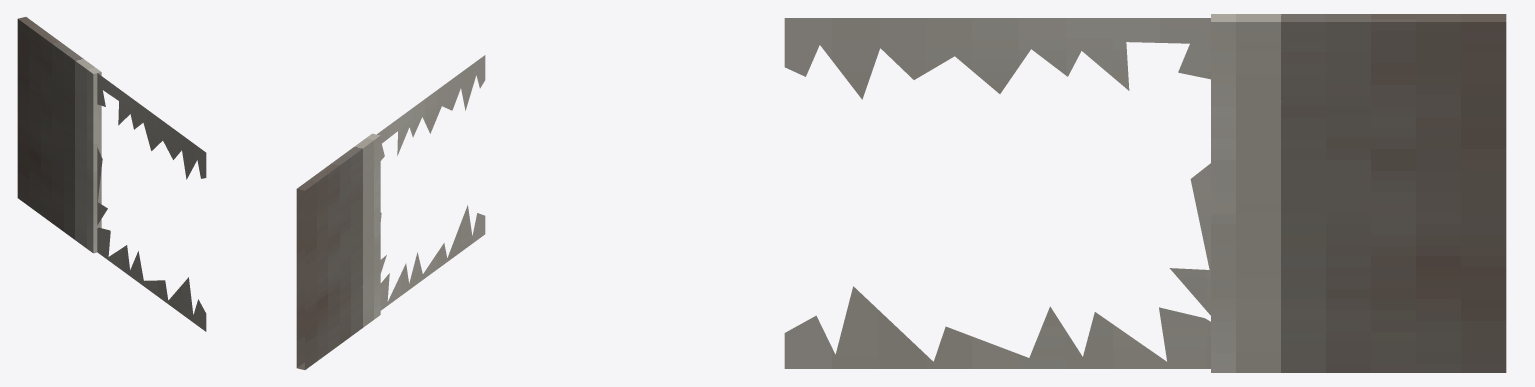
3 views of the same model, side by side, from view 1: azimuth 30°, elevation 25°; view 2: azimuth 150°, elevation 25°; view 3: azimuth 270°, elevation 25° (orthographic). The views are drawn at different scales.
Bounding box in the file's own units: 0.0484 × 1 × 2.45.
